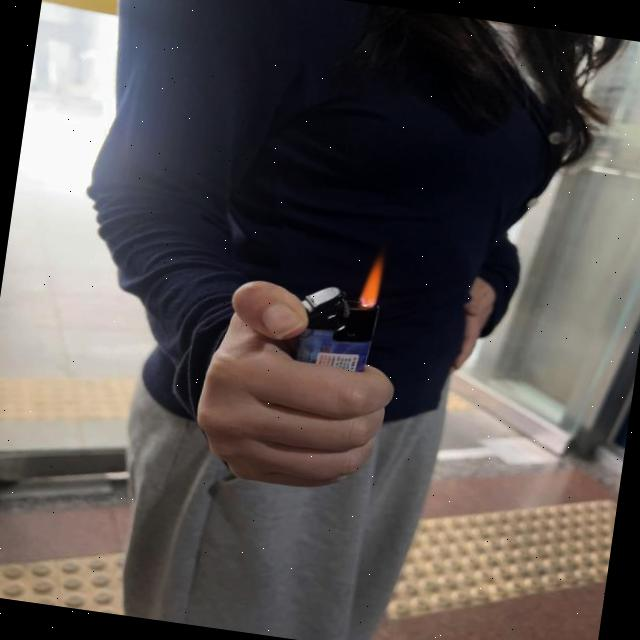fire: (356, 256, 386, 308)
